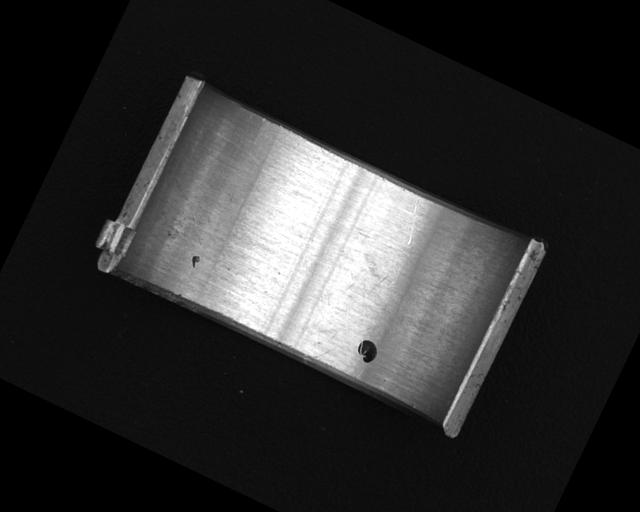blot: (343, 244, 413, 316), (352, 336, 381, 366)
bruise: (187, 251, 203, 269)
nick: (395, 199, 429, 247)
